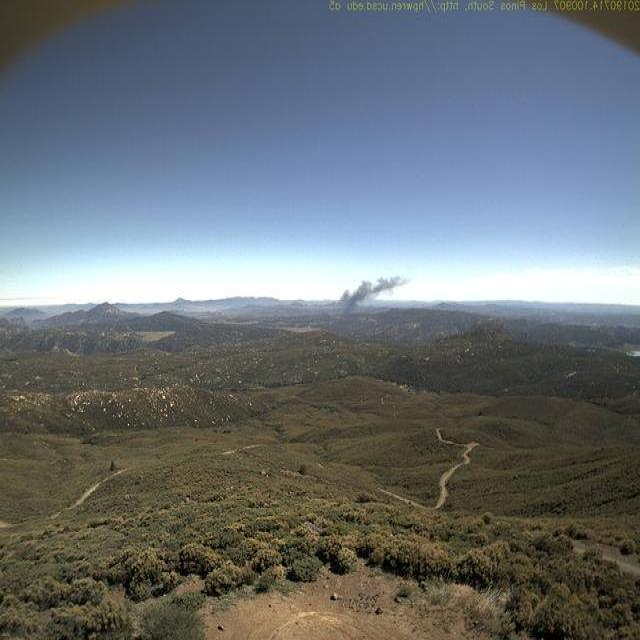Smoke: (334, 265, 412, 319)
